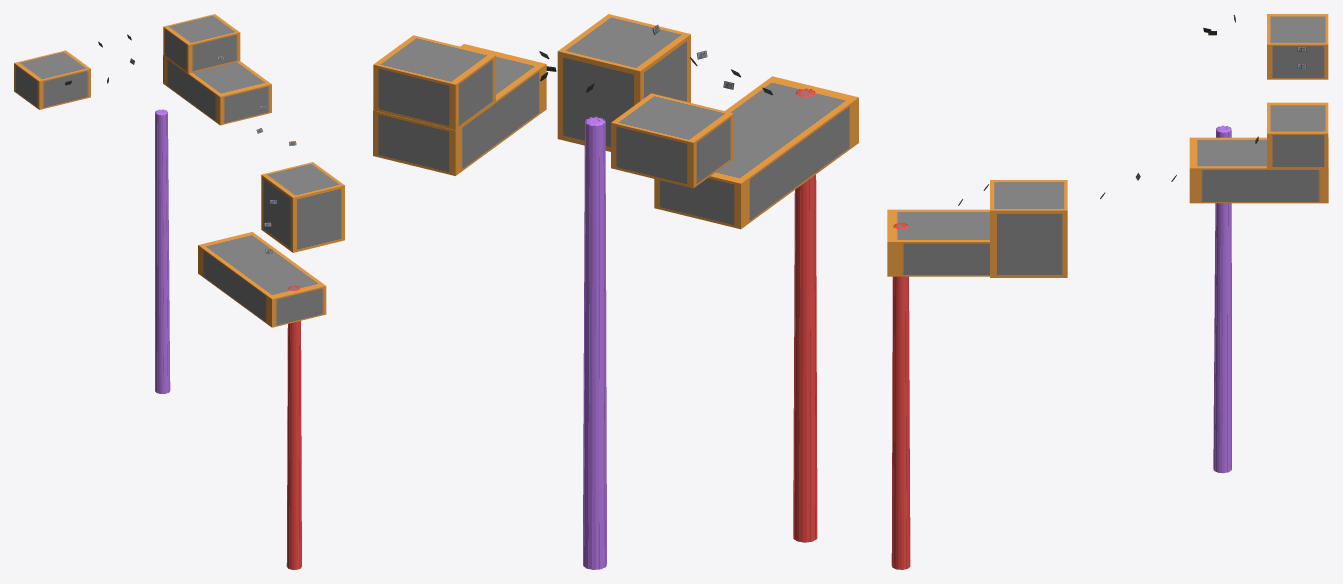
Rendered from stage3.fbx.
3 views of the same model, side by side, from view 1: azimuth 30°, elevation 25°; view 2: azimuth 150°, elevation 25°; view 3: azimuth 270°, elevation 25° (orthographic). The views are drawn at different scales.
Visible parts, largest first — view 1: stage3:start_goal:group8; view 2: stage3:start_goal:group8; view 3: stage3:start_goal:group8.
Part boxes in pixels (left/top/right/bottom): stage3:start_goal:group8: left=14, top=14, right=344, bottom=569; stage3:start_goal:group8: left=373, top=14, right=858, bottom=569; stage3:start_goal:group8: left=887, top=14, right=1328, bottom=569.
Size of the model in its own units: 17612 by 35363 by 27484.
